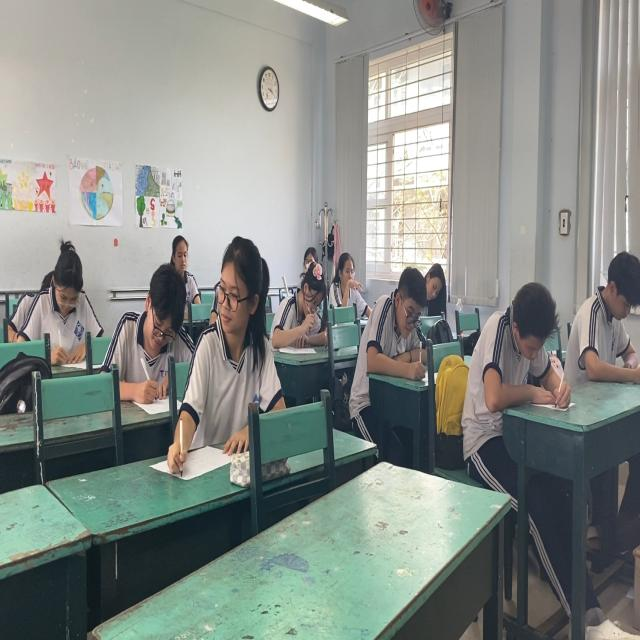cheating: (203, 231, 284, 449)
not_cheating: (472, 279, 560, 414), (26, 235, 106, 356), (570, 249, 640, 386), (117, 263, 187, 383), (370, 266, 428, 383), (269, 252, 335, 342), (327, 252, 372, 321), (172, 235, 202, 317), (421, 259, 450, 317)
